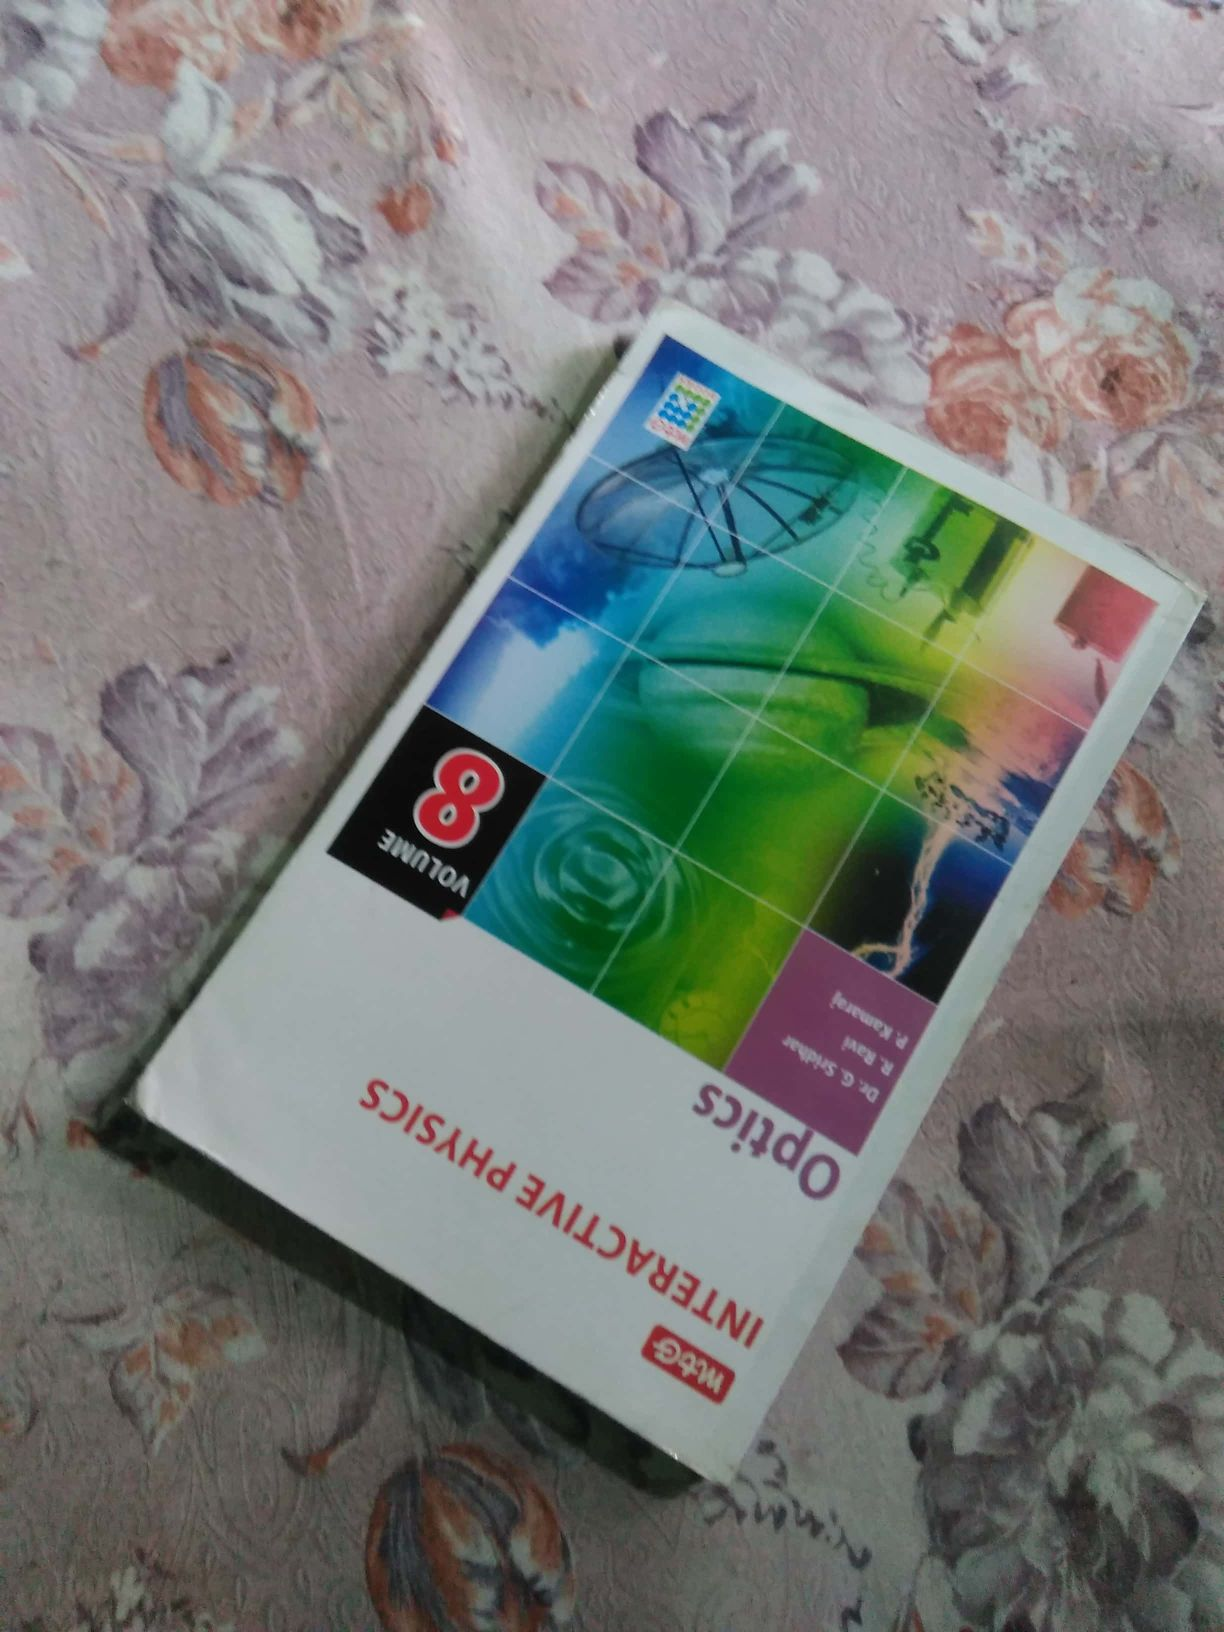optics: (165, 317, 1129, 1393)
